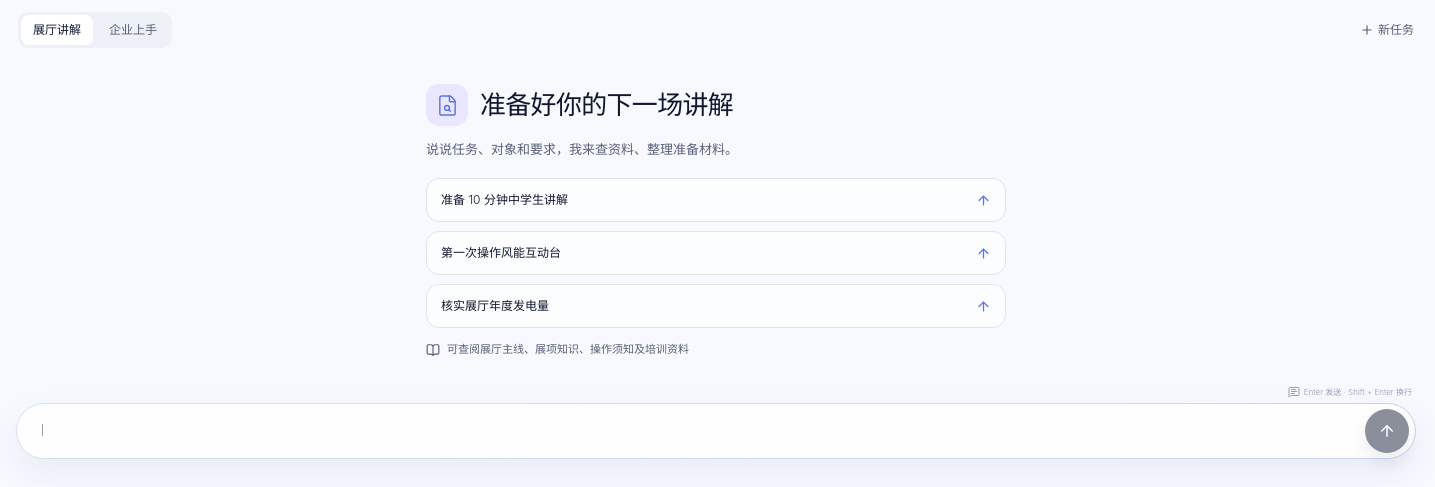
Test case: task preparation › stops the actual run and does not claim completion
Click the button "准备 10 分钟中学生讲解": click(504, 200) x1=426 y1=178 x2=1006 y2=222
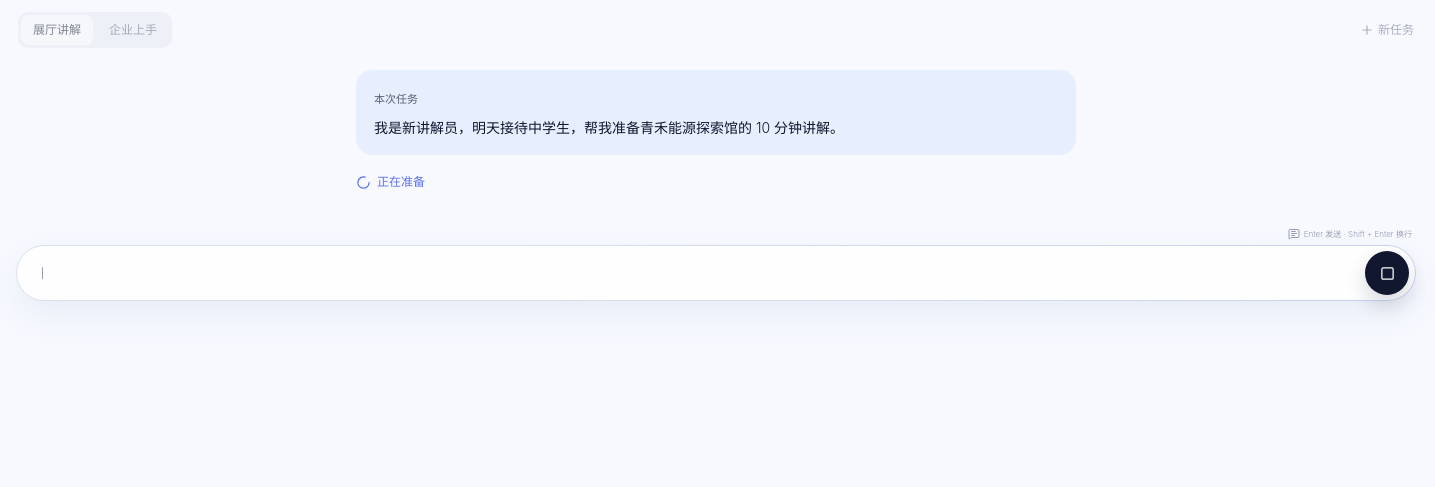
Click the button named "停止准备": click(1387, 273) x1=1365 y1=251 x2=1409 y2=295
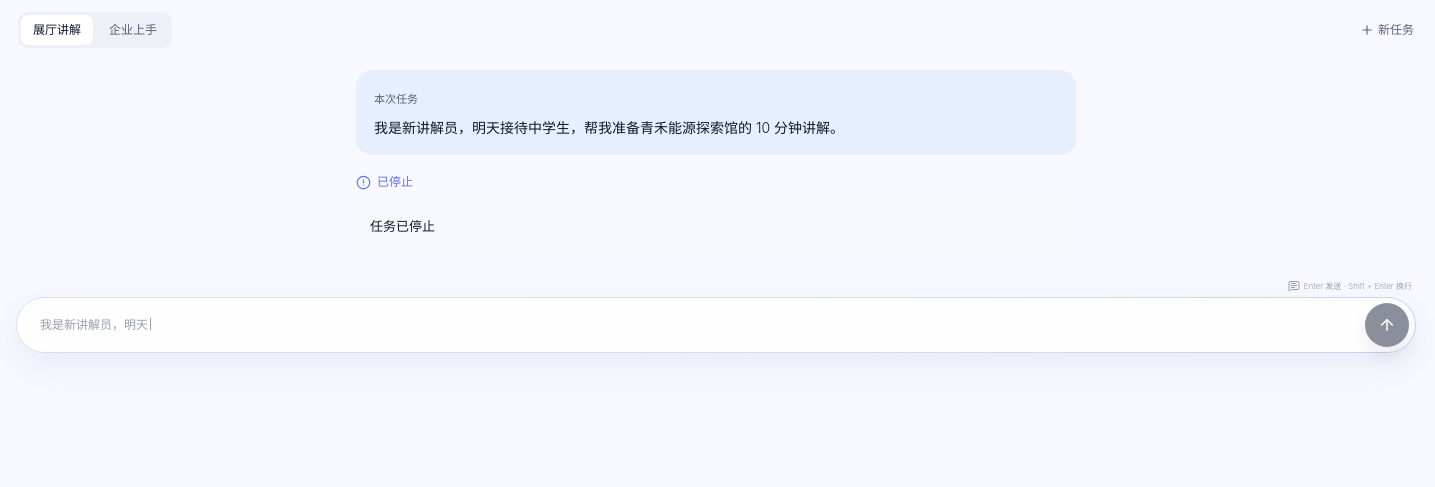
Check: the text "任务已停止" is shown, box x1=356 y1=201 x2=1076 y2=253
